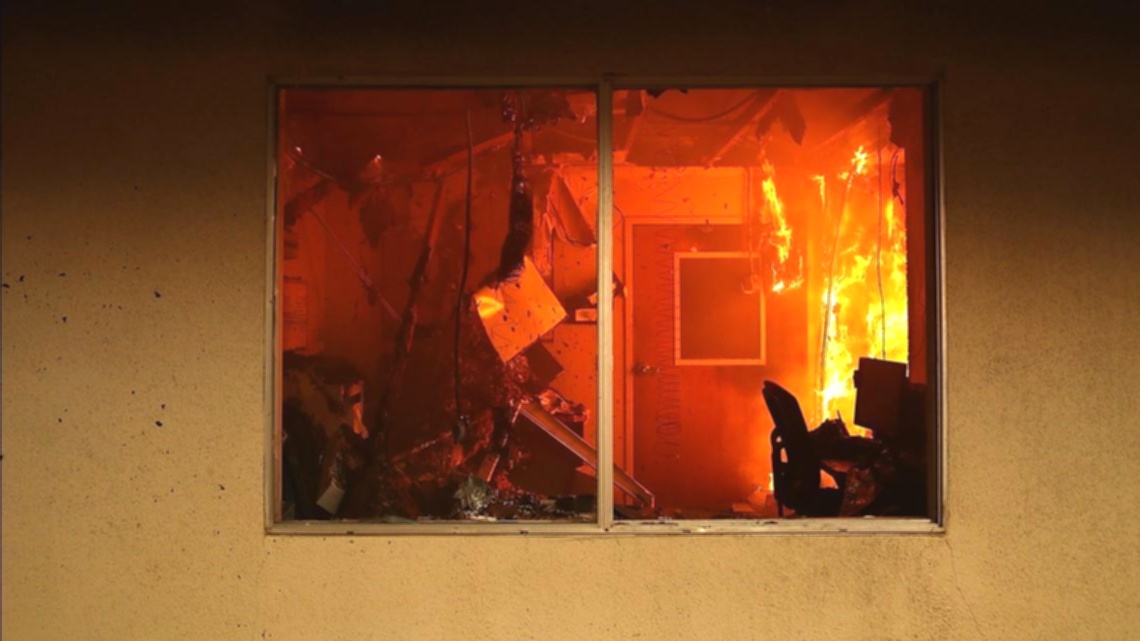fire: (747, 107, 927, 438)
